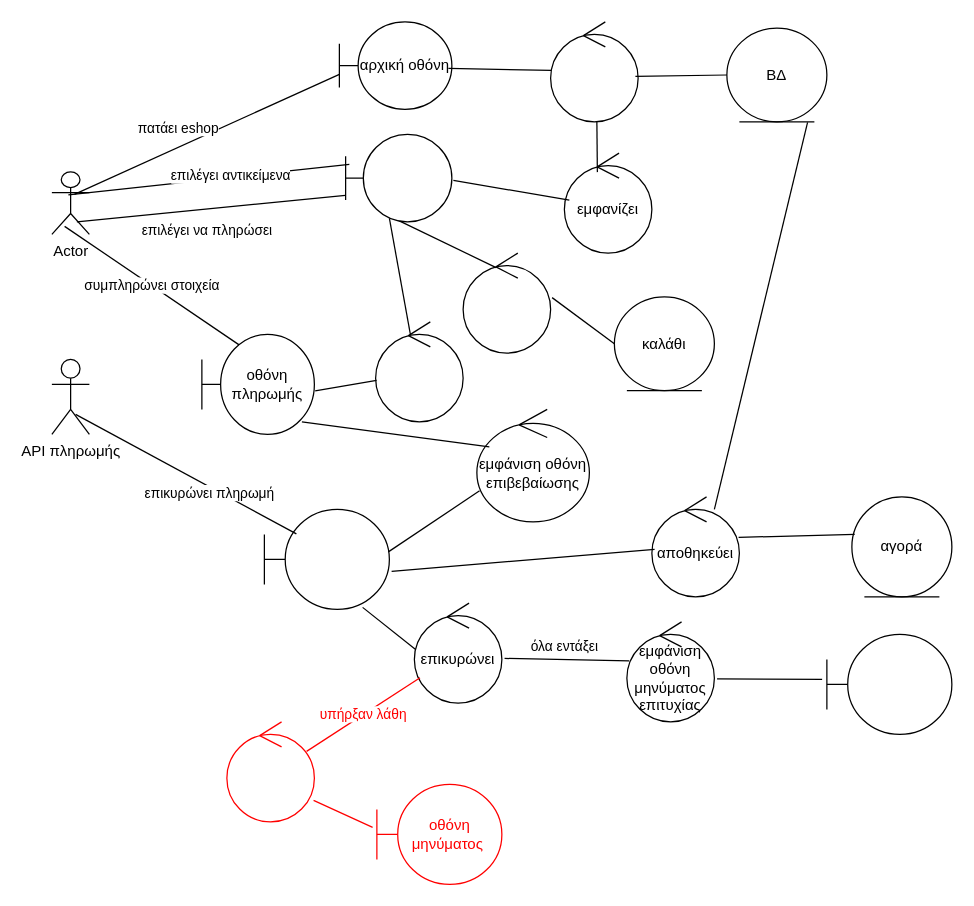
The diagram is 974 pixels wide and 906 high, and some of its shapes have lost their labels. Here are the shapes that lost their labels. From the top down, the centre of each, then its label:
the point at 593,71: ανακτά
the point at 398,177: οθόνη eshop
the point at 506,302: προσθέτει
the point at 418,371: εμφάνιση οθόνη πληρωμής
the point at 326,558: οθόνη επιβεβαίωσης
the point at 889,683: οθόνη μηνύματος επιτυχίας
the point at 270,771: εμφάνιση οθόνη μηνύματος
